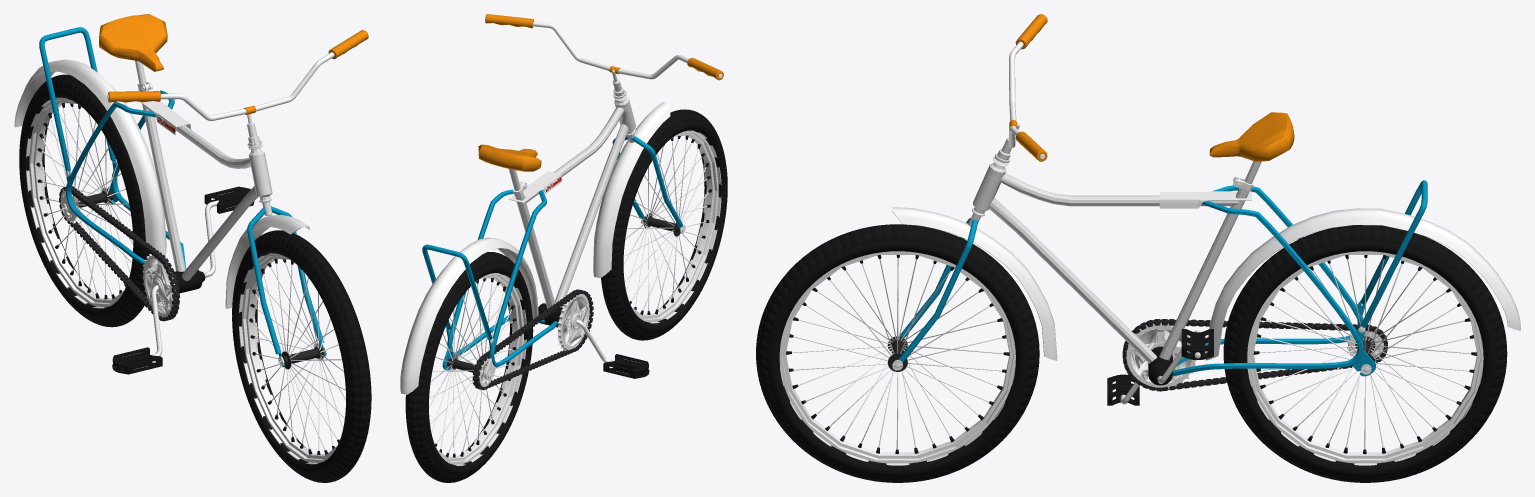
The model's file is Bicycle_2017.FBX.
3 renders of one model, left to right at view 1: azimuth 30°, elevation 25°; view 2: azimuth 150°, elevation 25°; view 3: azimuth 270°, elevation 25°, orthographic. The views are drawn at different scales.
Visible parts, largest first — view 1: Plane031, Plane032, Cylinder001, Plane005, Cylinder008, Cylinder007, seat, Box004, Line007, bicycle, Plane004, Rectangle002 (+8 smaller); view 2: Plane031, Plane032, Cylinder001, Plane005, Plane004, Cylinder007, Cylinder008, bicycle, Box004, Line007, Cylinder014, seat (+5 smaller); view 3: Plane031, Plane032, Cylinder001, Plane005, Cylinder007, Cylinder008, bicycle, Plane004, seat, Box004, Cylinder014, Line007 (+5 smaller).
Boxes of the visible parts, x1,y1,x2,y2 form: Plane031: (232, 230, 371, 482); Plane032: (19, 74, 150, 327); Cylinder001: (135, 60, 272, 281); Plane005: (14, 59, 166, 256); Cylinder008: (26, 97, 126, 308); Cylinder007: (239, 253, 339, 464); seat: (99, 14, 167, 71); Box004: (59, 186, 179, 321); Line007: (107, 30, 368, 120); bicycle: (65, 82, 186, 268); Plane004: (225, 214, 309, 308); Rectangle002: (39, 27, 115, 170); Plane031: (601, 109, 727, 340); Plane032: (405, 252, 533, 482); Cylinder001: (509, 69, 635, 311); Plane005: (400, 237, 539, 394); Plane004: (593, 102, 670, 278); Cylinder007: (629, 130, 721, 323); Cylinder008: (435, 273, 526, 465); bicycle: (447, 181, 557, 367); Box004: (472, 289, 593, 390); Line007: (485, 14, 723, 80); Cylinder014: (557, 293, 589, 350); seat: (478, 144, 541, 171); Plane031: (756, 224, 1039, 482); Plane032: (1223, 225, 1507, 482); Cylinder001: (968, 123, 1261, 363); Plane005: (1205, 208, 1520, 360); Cylinder007: (779, 251, 1015, 465); Cylinder008: (1247, 251, 1483, 465); bicycle: (1172, 176, 1363, 376); Plane004: (892, 207, 1057, 360); seat: (1209, 112, 1294, 161); Box004: (1122, 319, 1387, 391); Cylinder014: (1126, 322, 1196, 388); Line007: (1009, 14, 1047, 161).
Size of what is drawn, in the model's own units: 64.46 by 86.56 by 150.
